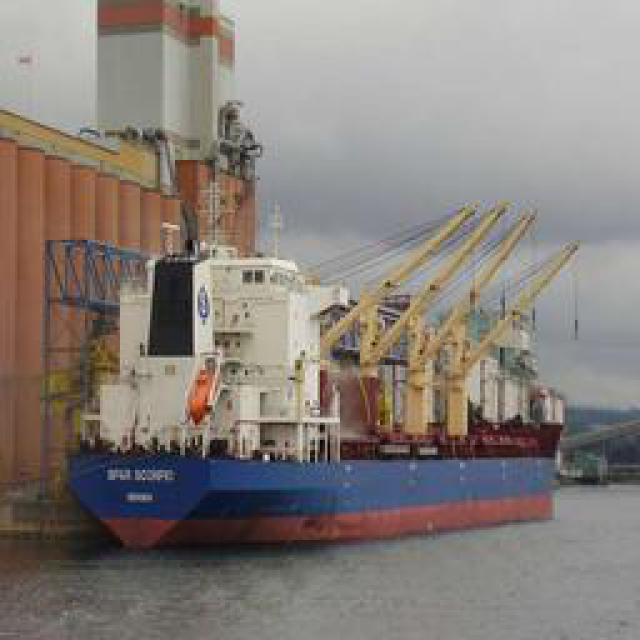Ship: (58, 170, 566, 560)
